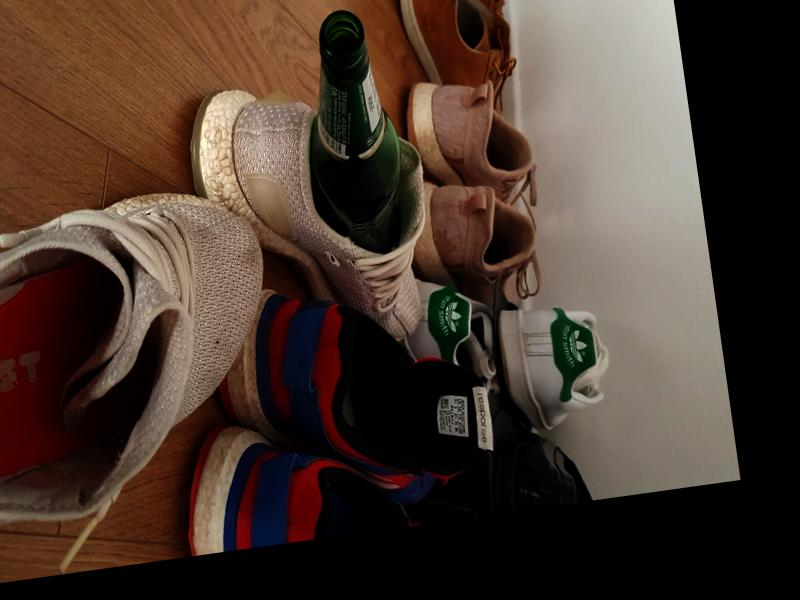Beer: (289, 5, 411, 261)
